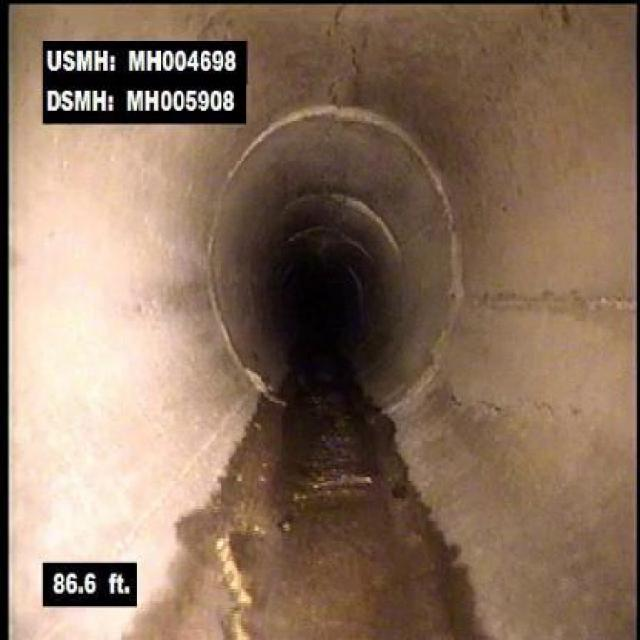Buckling: (212, 530, 257, 638)
Crack: (445, 391, 583, 422), (326, 11, 363, 108)
